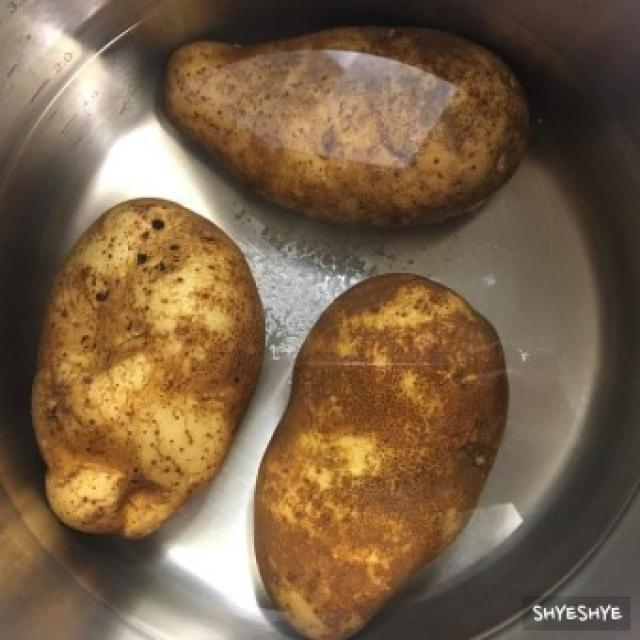potato: (250, 271, 516, 640), (22, 196, 270, 556), (156, 18, 536, 234)
